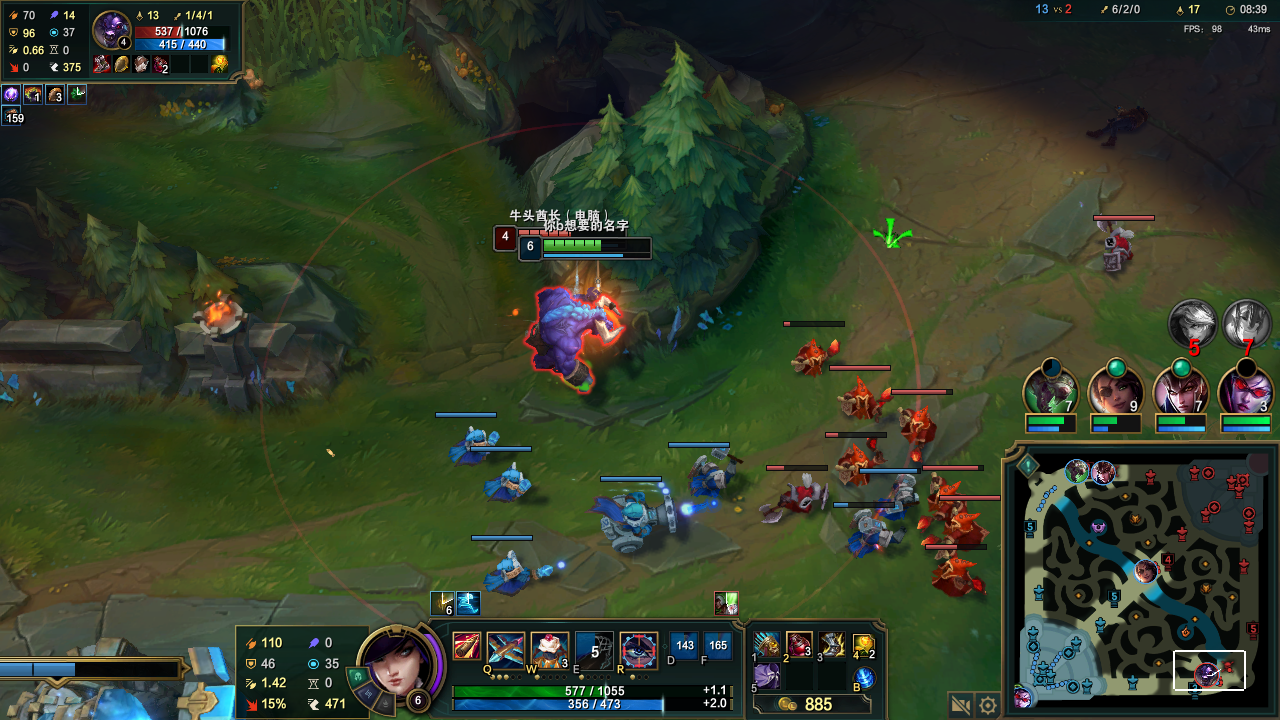DFXB: (902, 403, 946, 455), (941, 512, 981, 548), (845, 385, 883, 420), (781, 480, 821, 511), (928, 481, 962, 512), (790, 347, 829, 374), (840, 448, 875, 477), (934, 555, 964, 588)
DFYX: (517, 229, 572, 243)
WFXB: (599, 492, 669, 548), (484, 555, 535, 590), (847, 508, 887, 548), (692, 459, 731, 499), (886, 484, 919, 521), (490, 465, 525, 498), (455, 424, 485, 458)
